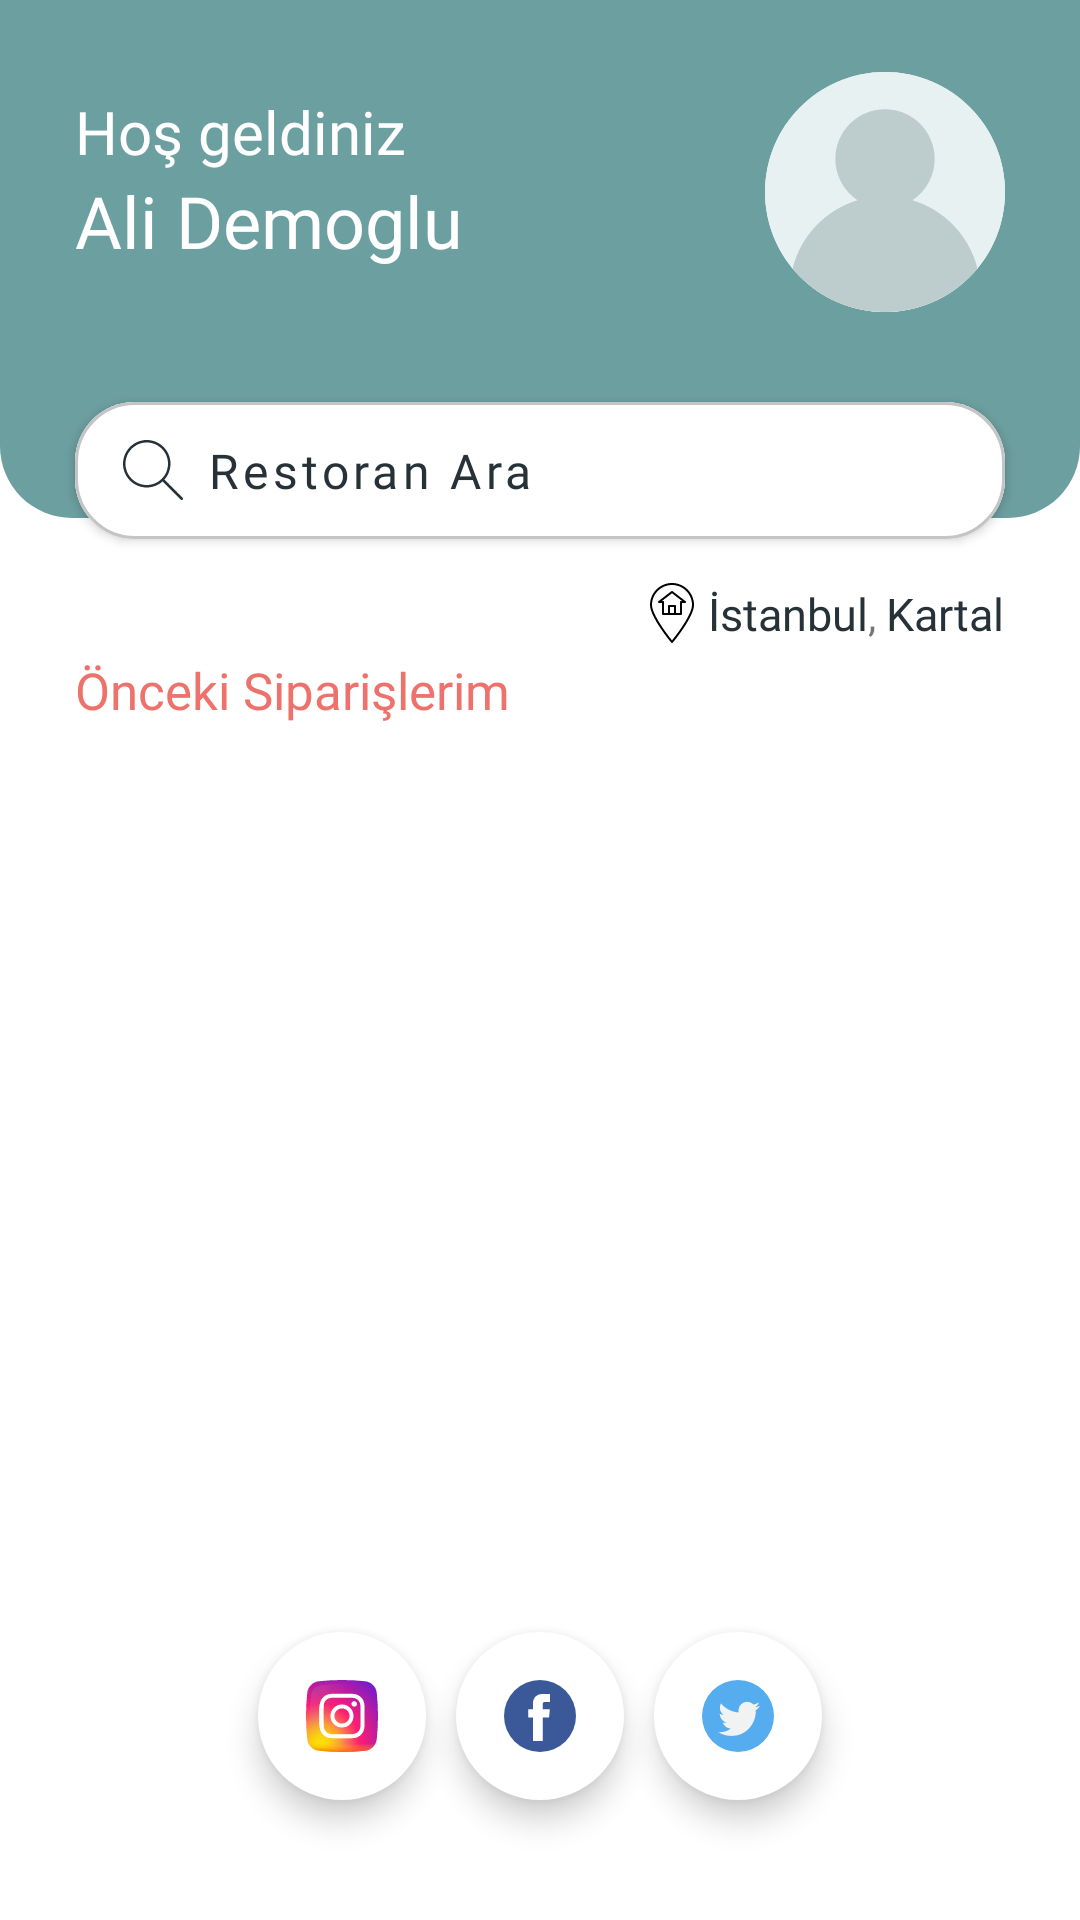

Icons on this 1080×1920 Android screen, each with the point to tap as (x,y):
user: (885,192)
